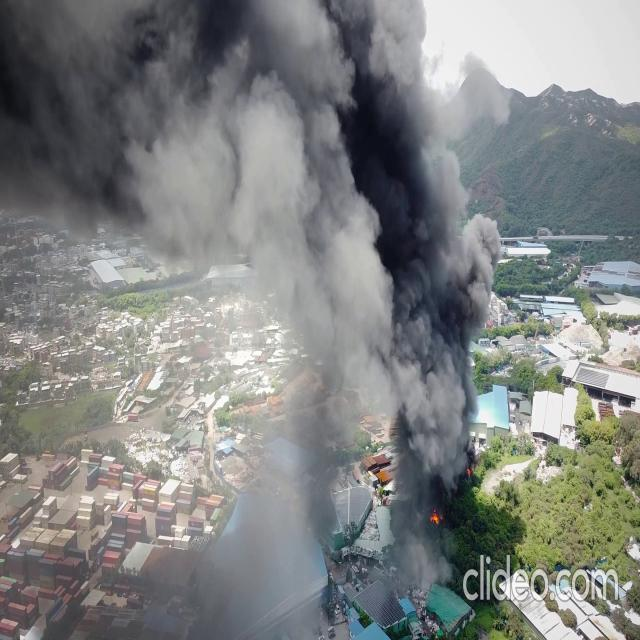Fire: (426, 506, 441, 532)
Smoke: (74, 0, 512, 545)
